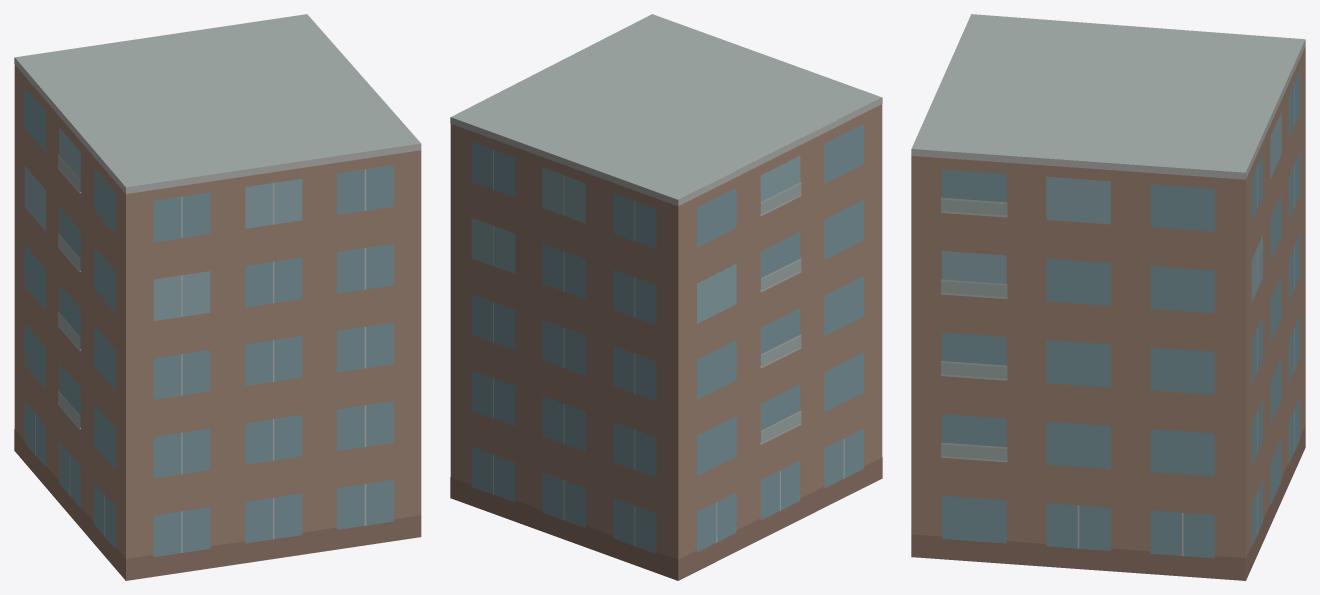
Rendered from survey-upis-32887526.glb.
The picture shows the model from 3 angles, left to right: view 1: azimuth 30°, elevation 25°; view 2: azimuth 150°, elevation 25°; view 3: azimuth 270°, elevation 25°; orthographic projection. The views are drawn at different scales.
Parts seen in each view (by area): view 1: survey-upis-32887526.tmp; view 2: survey-upis-32887526.tmp; view 3: survey-upis-32887526.tmp.
Part boxes in pixels (x1,y1,x2,y2): survey-upis-32887526.tmp: (14, 14, 421, 580); survey-upis-32887526.tmp: (450, 14, 882, 580); survey-upis-32887526.tmp: (911, 14, 1305, 580).
Size of the model in its own units: 11.94 by 14.3 by 12.53.
